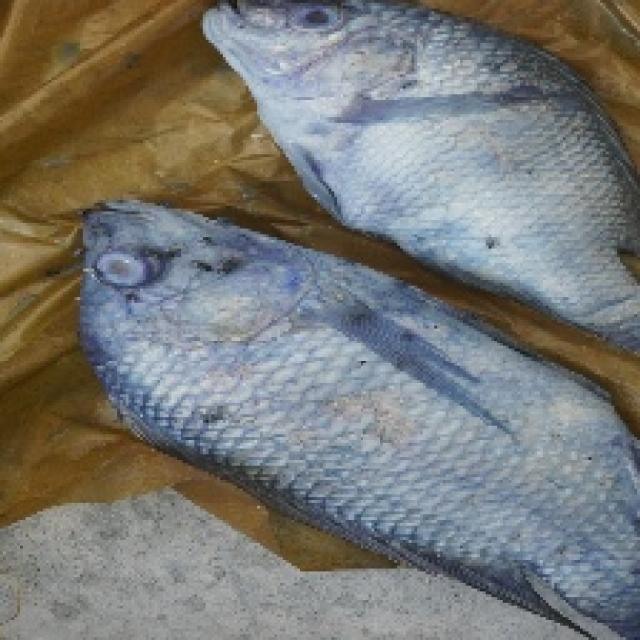Non-Fresh: (80, 205, 357, 496), (216, 0, 596, 194)
